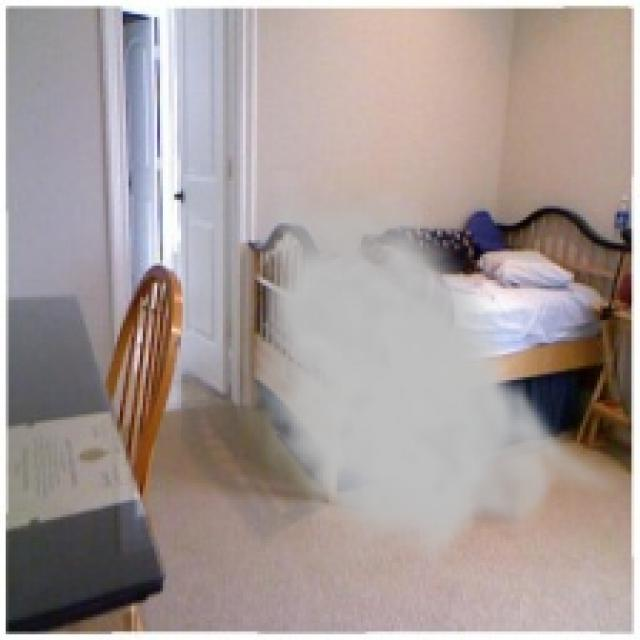smoke: (237, 166, 629, 577)
